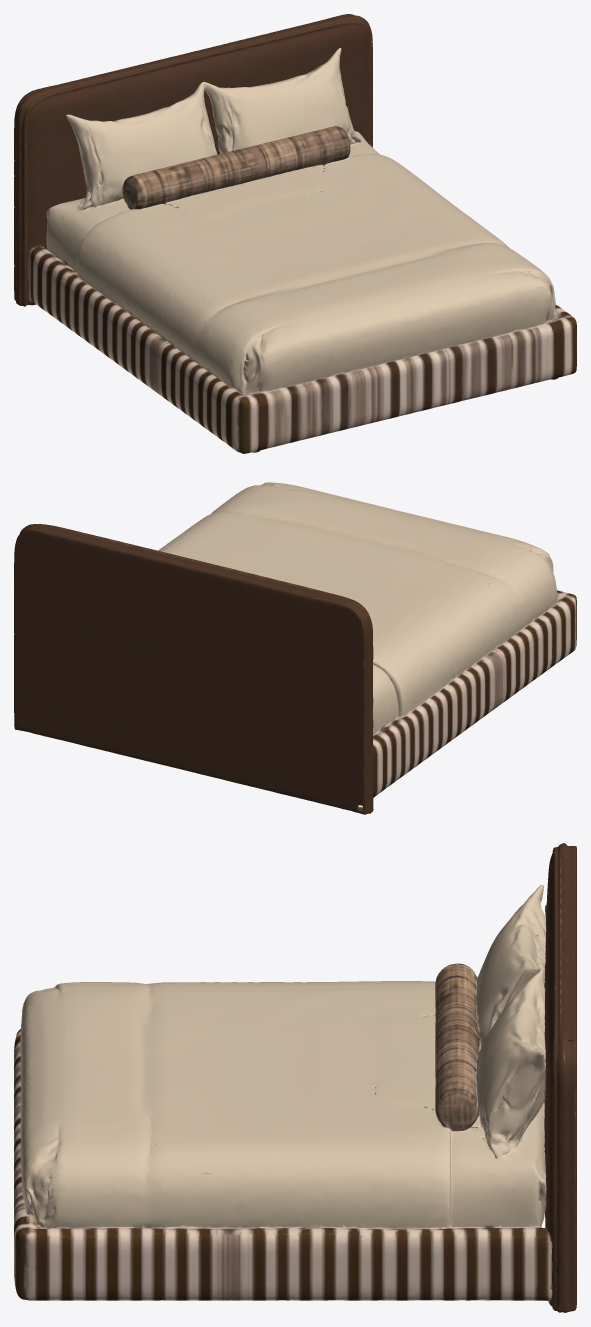
Rendered from Contemporary Upholstered Platform Bed with Striped Base [SuOH-W].glb.
3 views of the same model, one above another, from view 1: azimuth 30°, elevation 25°; view 2: azimuth 150°, elevation 25°; view 3: azimuth 270°, elevation 25° (orthographic). The views are drawn at different scales.
Parts seen in each view (by area): view 1: world; view 2: world; view 3: world.
Boxes of the visible parts, <box> form: world: <box>14,14,576,453</box>; world: <box>14,482,576,814</box>; world: <box>14,843,576,1312</box>.
Size of the model in its own units: 0.9244 by 0.5231 by 1.
1 material, 1 textured.
